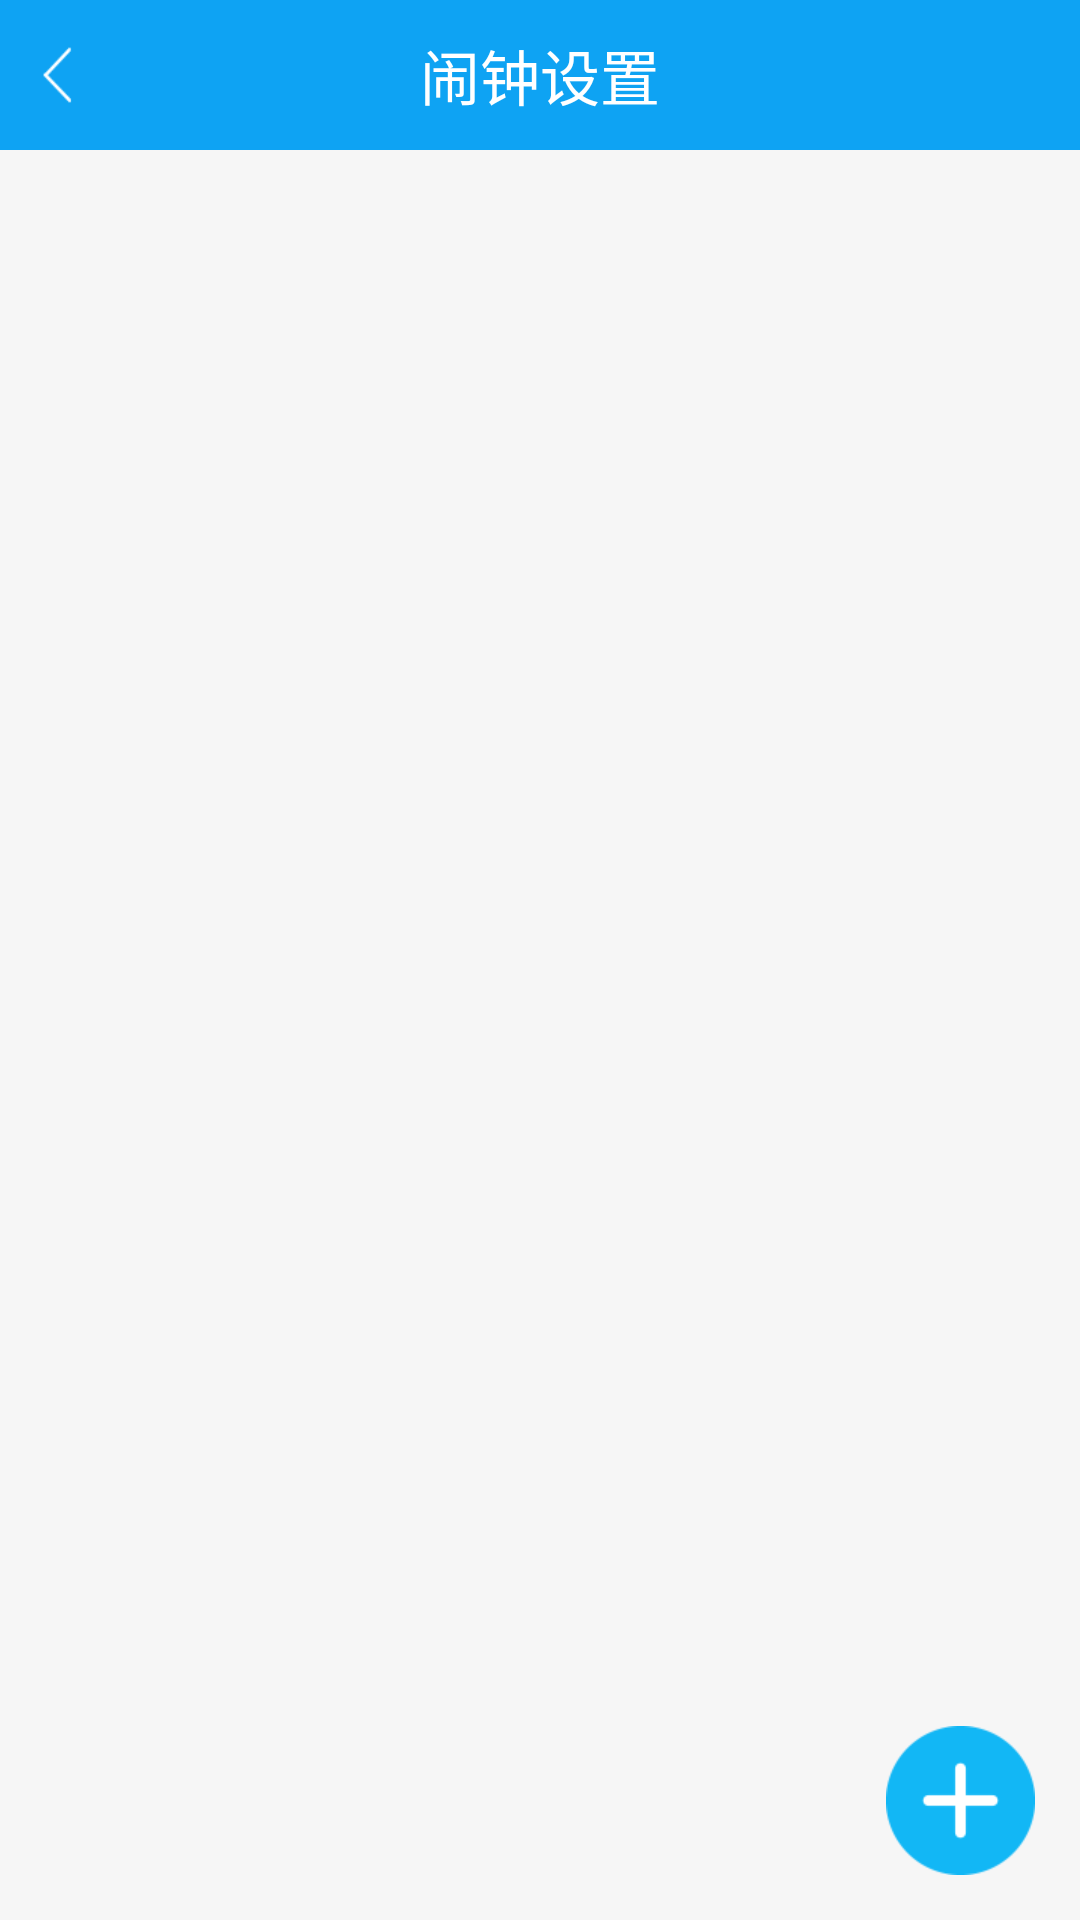

Icons on this 1080px×1920px Android screen, each with its box as (x1, y1, x2, y2):
add alarm: (886, 1726, 1035, 1875)
topbar return: (43, 47, 71, 103)
